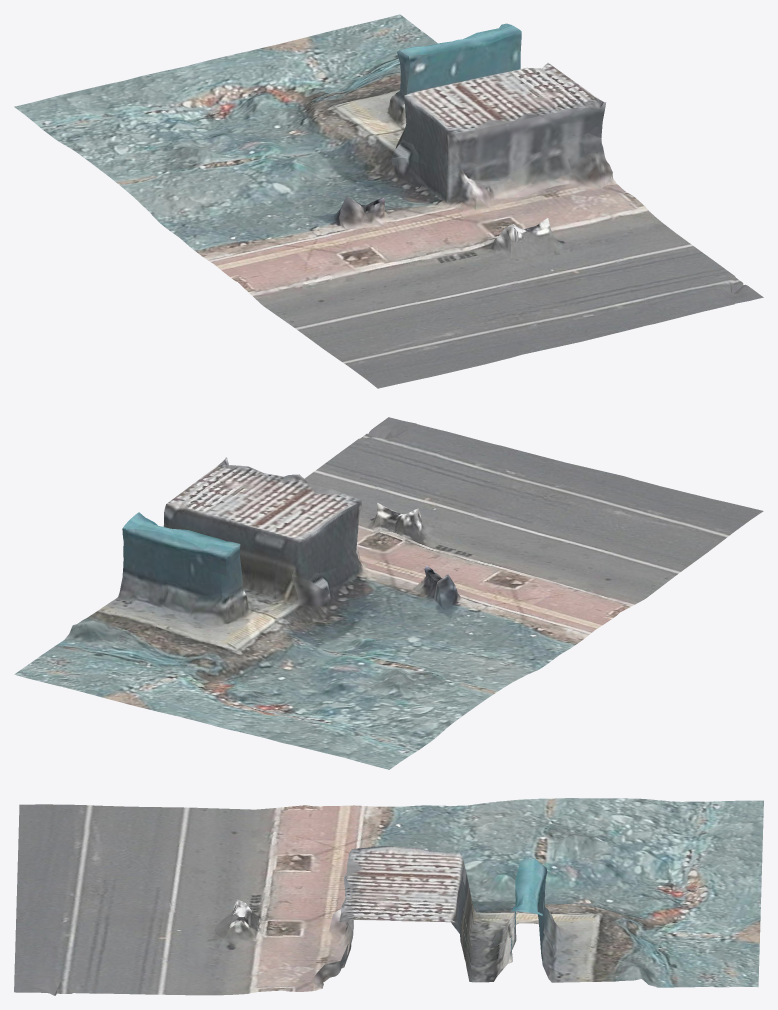
The model's file is Tile_+005_+012_L20_0uuuu32.glb.
The picture shows the model from 3 angles, top to bottom: view 1: azimuth 30°, elevation 25°; view 2: azimuth 150°, elevation 25°; view 3: azimuth 270°, elevation 25°; orthographic projection.
Visible parts, largest first — view 1: rtc; view 2: rtc; view 3: rtc.
Part boxes in pixels (box(x1,y1,x2,y2)): rtc: box(14, 14, 763, 388); rtc: box(14, 417, 763, 769); rtc: box(14, 798, 763, 995).
Bounding box in the file's own units: 17.09 × 3.88 × 28.32.
Materials: 1 (1 with a texture image).
